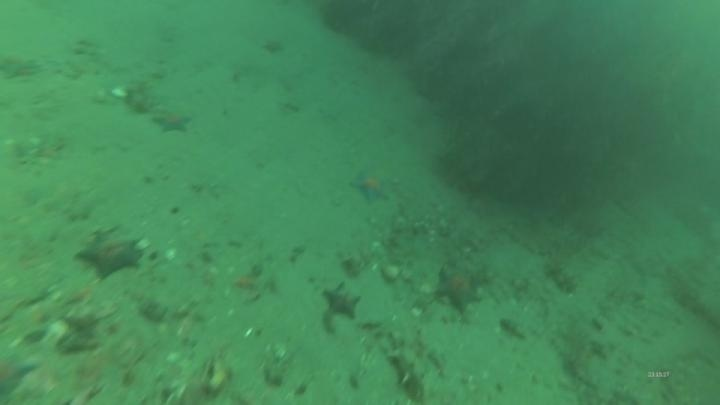holothurian: (382, 325, 434, 403), (495, 214, 587, 258), (542, 259, 580, 297)
starfish: (74, 227, 146, 283), (432, 262, 487, 316), (1, 348, 41, 400), (320, 281, 364, 324), (348, 166, 395, 206), (149, 107, 195, 137), (1, 51, 43, 82)
